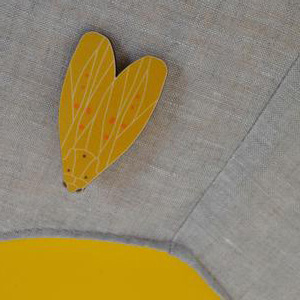Agape chloropyga: (52, 29, 171, 192)
moth: (51, 29, 170, 192)
